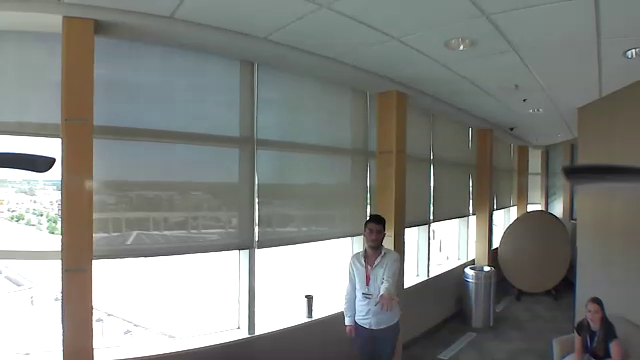land: (371, 290, 407, 312)
